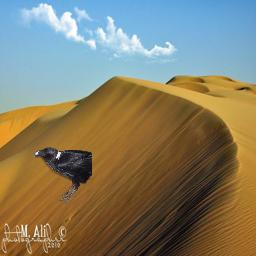Crow: (33, 147, 92, 204)
